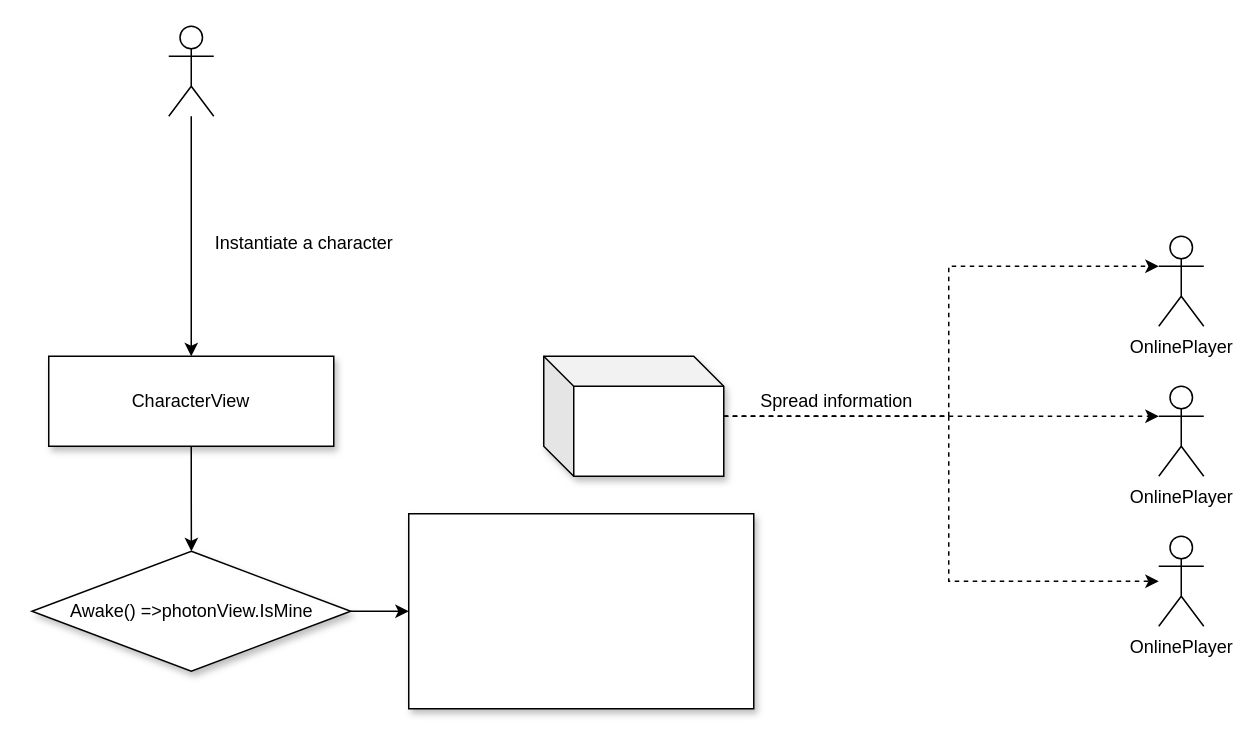
This 1260x746 diagram has some shape labels left out. The centre of each missing label's shape, as x and y in pixels:
LocalPlayer: (190,70)
photonView.RPC("RequestFlipValue", ...: (582,612)
Server: (634,418)
